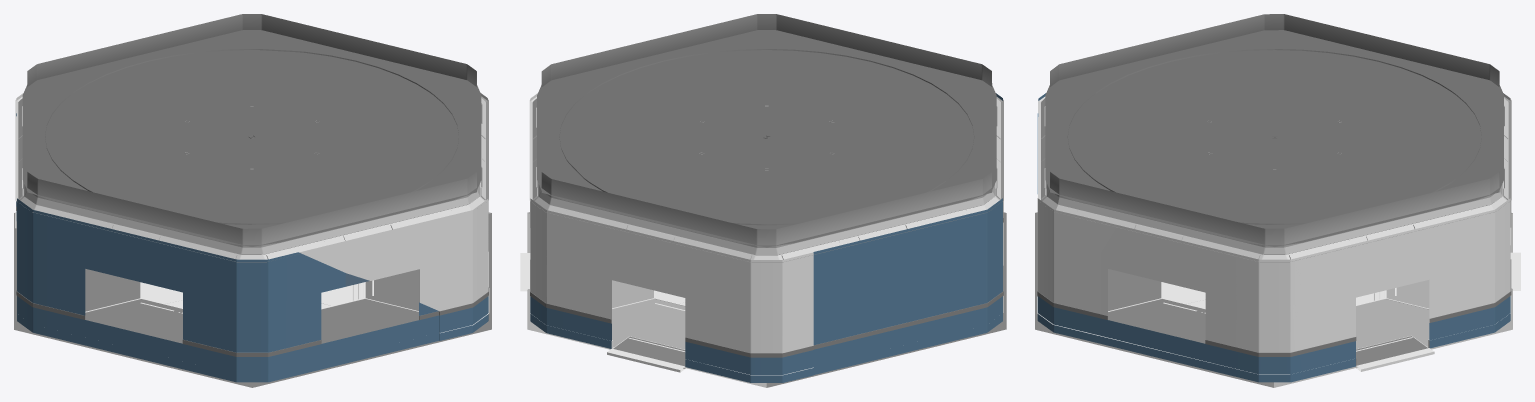
3 renders of one model, left to right at view 1: azimuth 30°, elevation 25°; view 2: azimuth 150°, elevation 25°; view 3: azimuth 270°, elevation 25°, orthographic.
Parts seen in each view (by area): view 1: SM_H_Building_FutureTech_Test_01_InterWall_01; view 2: SM_H_Building_FutureTech_Test_01_InterWall_01; view 3: SM_H_Building_FutureTech_Test_01_InterWall_01.
Part boxes in pixels (x1,y1,x2,y2): SM_H_Building_FutureTech_Test_01_InterWall_01: (14, 14, 491, 387); SM_H_Building_FutureTech_Test_01_InterWall_01: (520, 14, 1006, 387); SM_H_Building_FutureTech_Test_01_InterWall_01: (1035, 14, 1520, 387).
Bounding box in the file's own units: 594 × 675 × 220.
